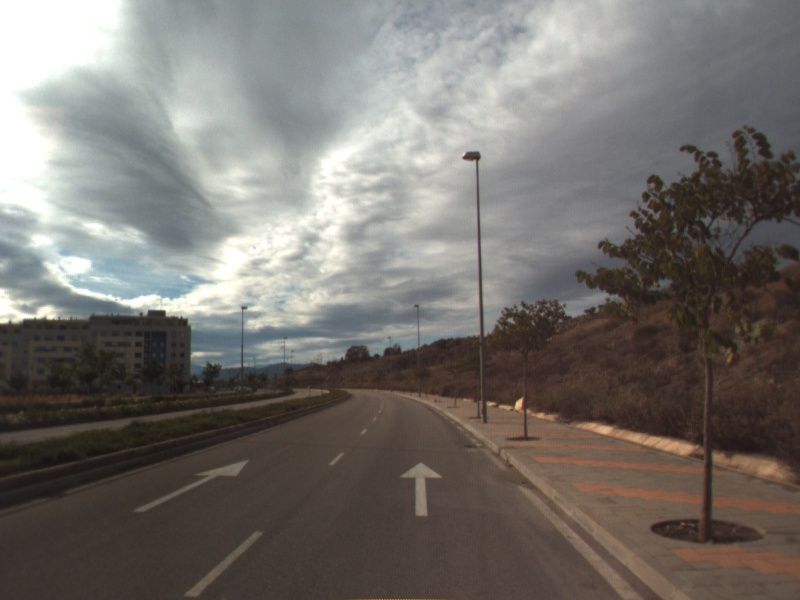STRAIGHT: (131, 458, 251, 514), (397, 459, 445, 518)
